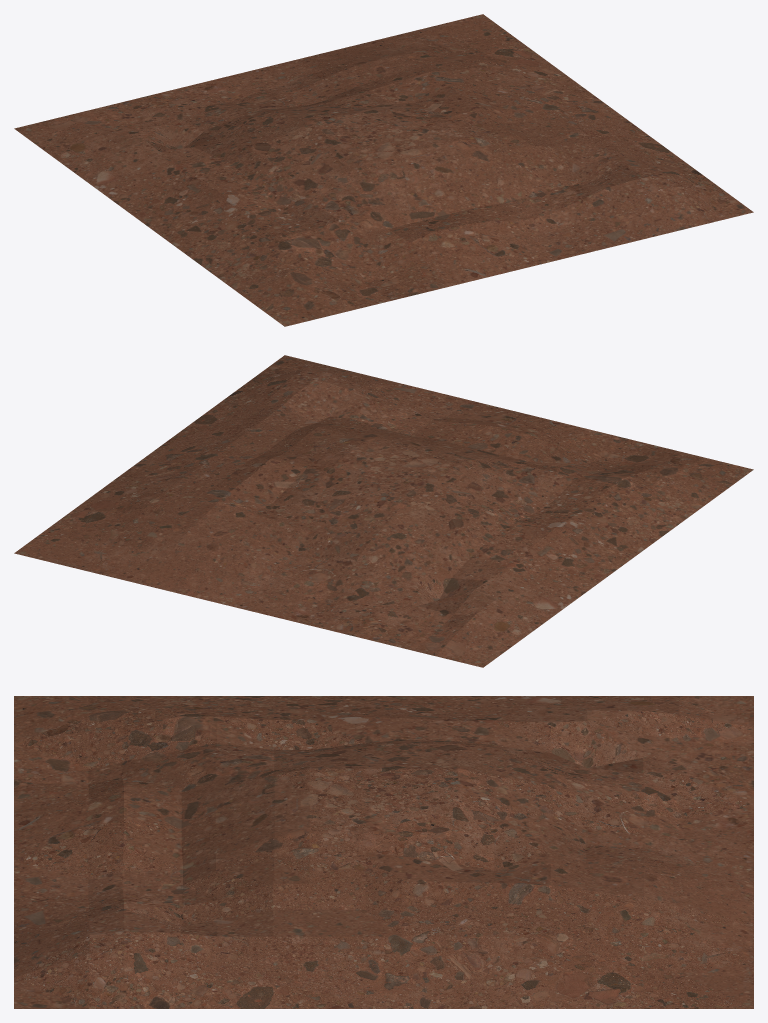
The model's file is DirtState-02.fbx.
3 renders of one model, top to bottom at view 1: azimuth 30°, elevation 25°; view 2: azimuth 150°, elevation 25°; view 3: azimuth 270°, elevation 25°, orthographic. The views are drawn at different scales.
Visible parts, largest first — view 1: Plane; view 2: Plane; view 3: Plane.
Part boxes in pixels (box(x1,y1,x2,y2)): Plane: box(14, 14, 753, 326); Plane: box(14, 355, 753, 667); Plane: box(14, 696, 753, 1008).
Bounding box in the file's own units: 400 × 33.84 × 400.
1 material, 1 textured.
